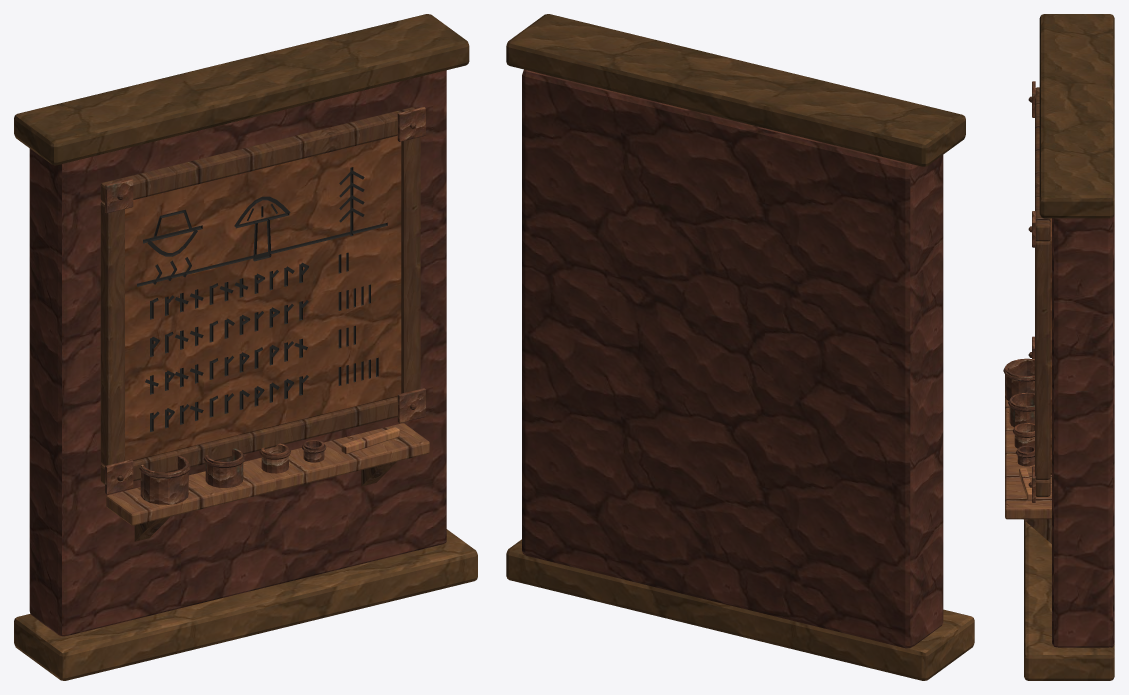
The model's file is rb_recipe_board.glb.
The picture shows the model from 3 angles, left to right: view 1: azimuth 30°, elevation 25°; view 2: azimuth 150°, elevation 25°; view 3: azimuth 270°, elevation 25°; orthographic projection. The views are drawn at different scales.
Visible parts, largest first — view 1: model; view 2: model; view 3: model.
Boxes of the visible parts, x1=… form: model: x1=14, y1=14, x2=477, y2=680; model: x1=506, y1=14, x2=974, y2=680; model: x1=1003, y1=14, x2=1114, y2=680.
Bounding box in the file's own units: 1.4 × 1.71 × 0.356.
Materials: 10 (9 with a texture image).
